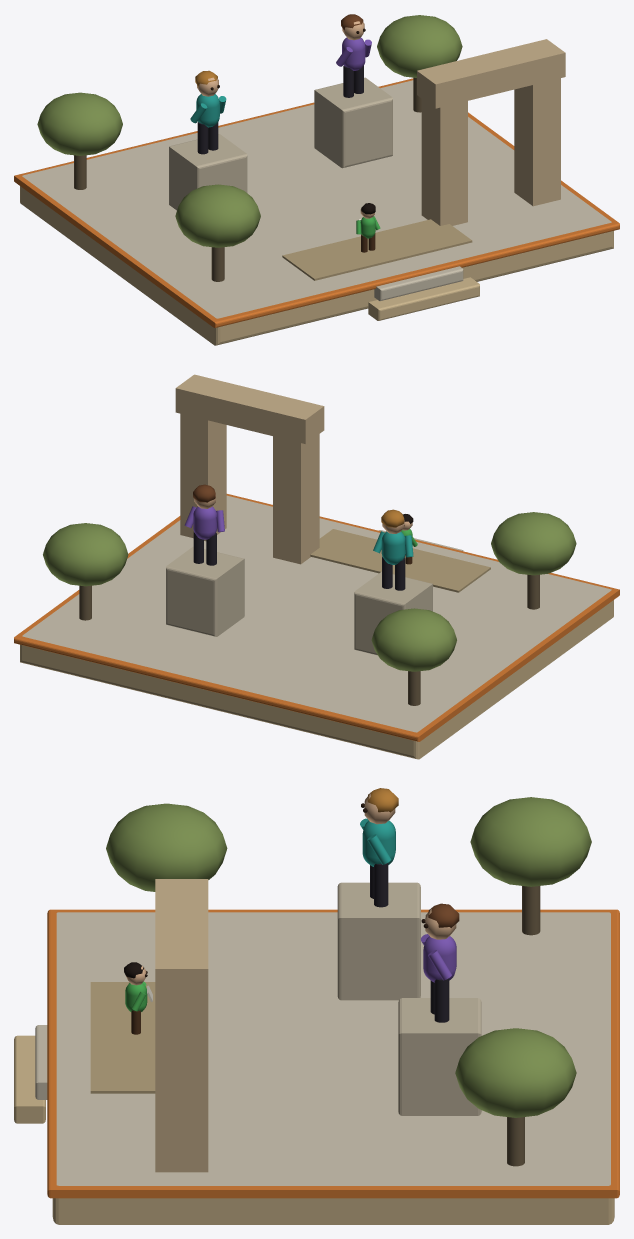
The model's file is heroesGarden.glb.
The picture shows the model from 3 angles, top to bottom: view 1: azimuth 30°, elevation 25°; view 2: azimuth 150°, elevation 25°; view 3: azimuth 270°, elevation 25°; orthographic projection. The views are drawn at different scales.
Visible parts, largest first — view 1: part_000; view 2: part_000; view 3: part_000.
Part boxes in pixels (left/top/right/bottom): part_000: left=14, top=14, right=619, bottom=345; part_000: left=14, top=374, right=619, bottom=759; part_000: left=14, top=788, right=619, bottom=1224.
Size of the model in its own units: 8.8 by 3.6 by 7.98.
